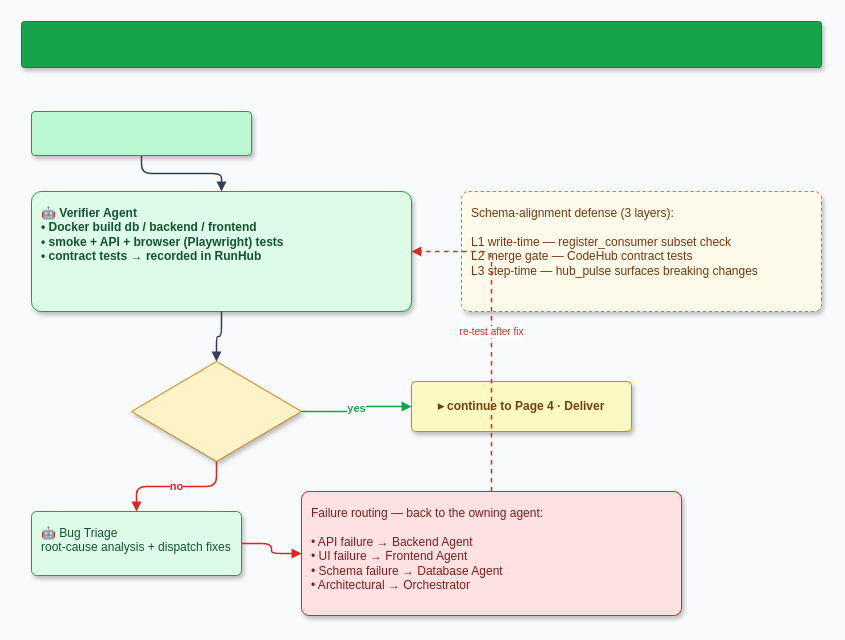
Image size: 845x640. Some labels were removed from this diagram. The centre of each missing label's shape, as x and y in pixels:
All pass?: point 217,412
Development output (from Page 2): point 142,134
Page 3 · Verify & Fix Loop (max 3–5 iterations): point 422,45
